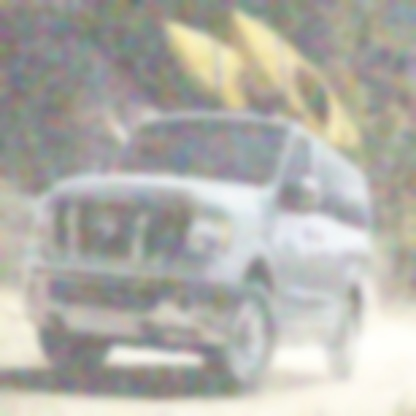Vehicle: (19, 102, 374, 405)
